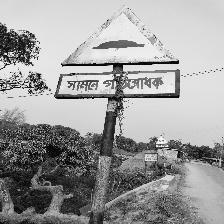Speed-breaker: (57, 4, 181, 100)
